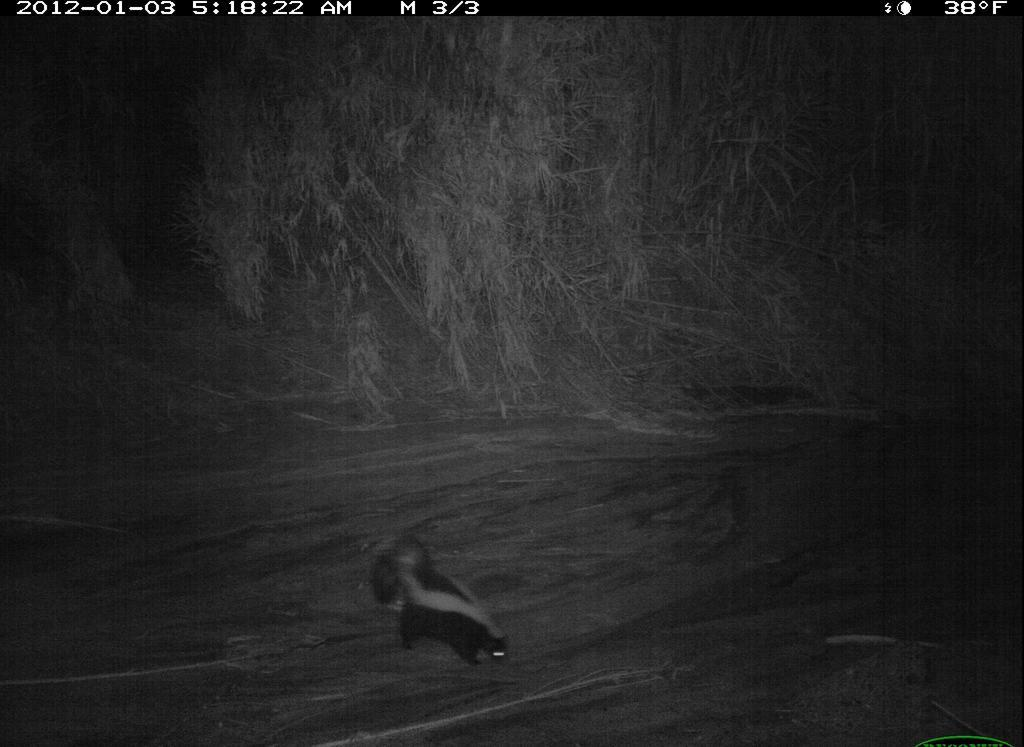skunk: (354, 528, 525, 680)
